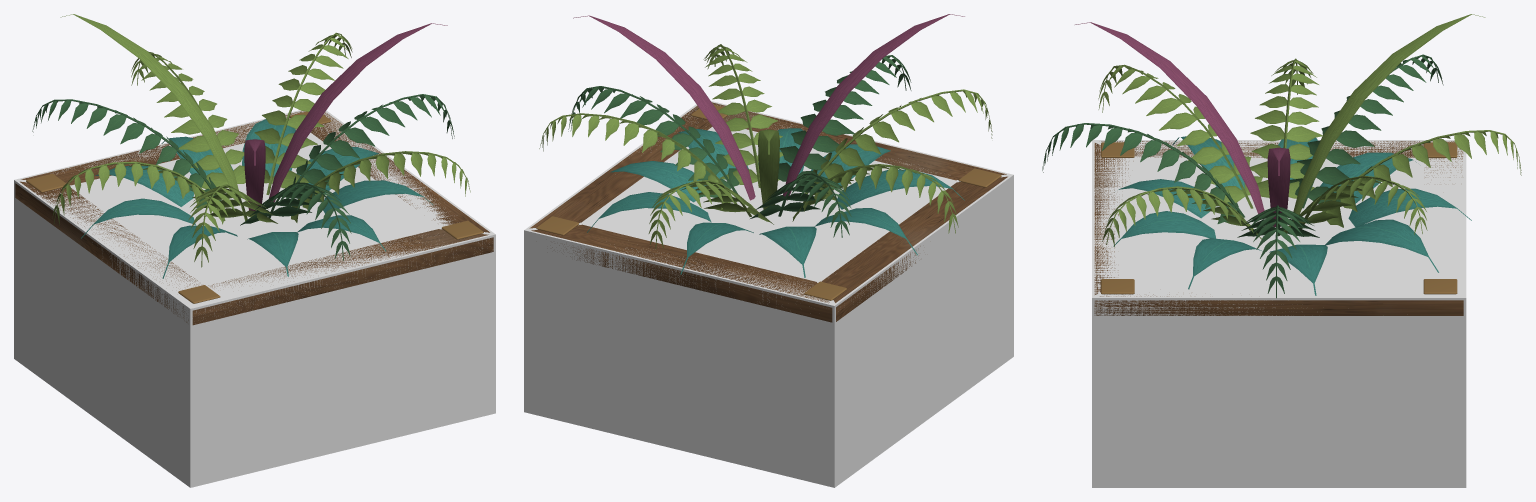
File: plaza_planter_fern.gltf
The picture shows the model from 3 angles, left to right: view 1: azimuth 30°, elevation 25°; view 2: azimuth 150°, elevation 25°; view 3: azimuth 270°, elevation 25°; orthographic projection. The views are drawn at different scales.
Visible parts, largest first — view 1: plaza_planter_fern_col, plaza_planter_fern_LOD0; view 2: plaza_planter_fern_col, plaza_planter_fern_LOD0; view 3: plaza_planter_fern_col, plaza_planter_fern_LOD0.
Part boxes in pixels (x1,y1,x2,y2): plaza_planter_fern_col: (14, 110, 495, 487); plaza_planter_fern_LOD0: (15, 14, 493, 325); plaza_planter_fern_col: (524, 101, 1013, 487); plaza_planter_fern_LOD0: (529, 14, 1007, 322); plaza_planter_fern_col: (1092, 140, 1466, 487); plaza_planter_fern_LOD0: (1042, 14, 1521, 315).
Size of what is drawn, in the model's own units: 1.27 by 1.03 by 1.28.
8 materials, 7 textured.
